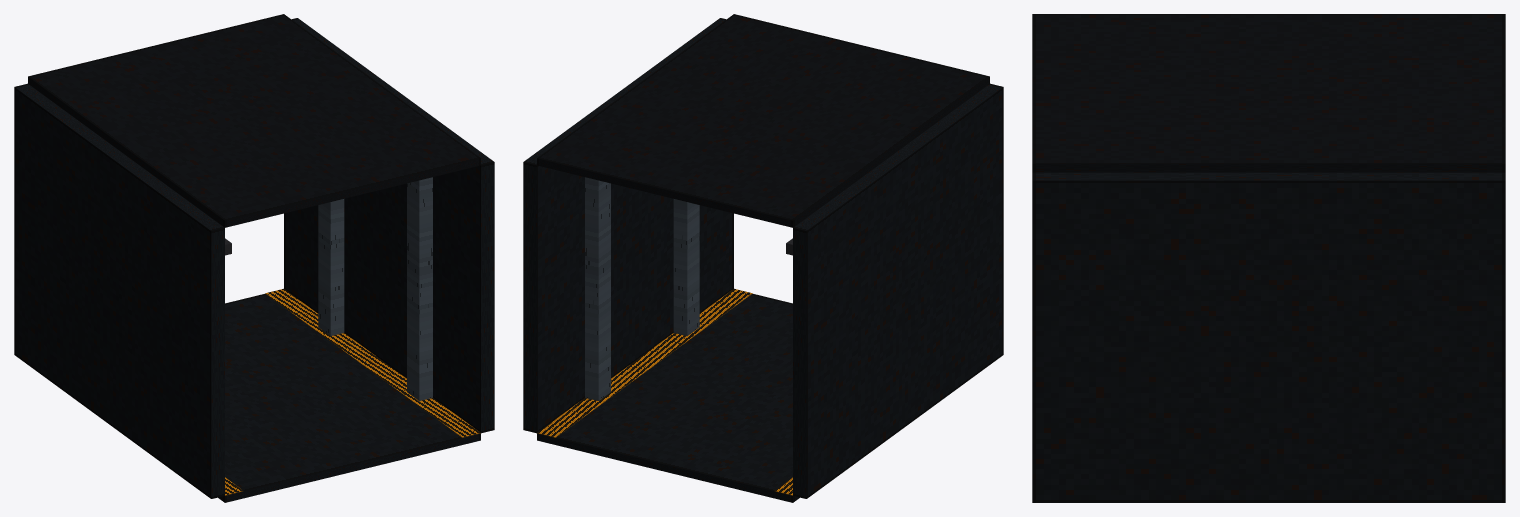
Rendered from station_corridor_industrial_hazard.glb.
3 renders of one model, left to right at view 1: azimuth 30°, elevation 25°; view 2: azimuth 150°, elevation 25°; view 3: azimuth 270°, elevation 25°, orthographic. The views are drawn at different scales.
Visible parts, largest first — view 1: station_corridor_industrial_hazard; view 2: station_corridor_industrial_hazard; view 3: station_corridor_industrial_hazard.
Part boxes in pixels (left/top/right/bottom): station_corridor_industrial_hazard: left=14, top=14, right=494, bottom=502; station_corridor_industrial_hazard: left=523, top=14, right=1003, bottom=502; station_corridor_industrial_hazard: left=1032, top=14, right=1505, bottom=502.
Bounding box in the file's own units: 3.32 × 3.16 × 4.
Materials: 7 (7 with a texture image).
